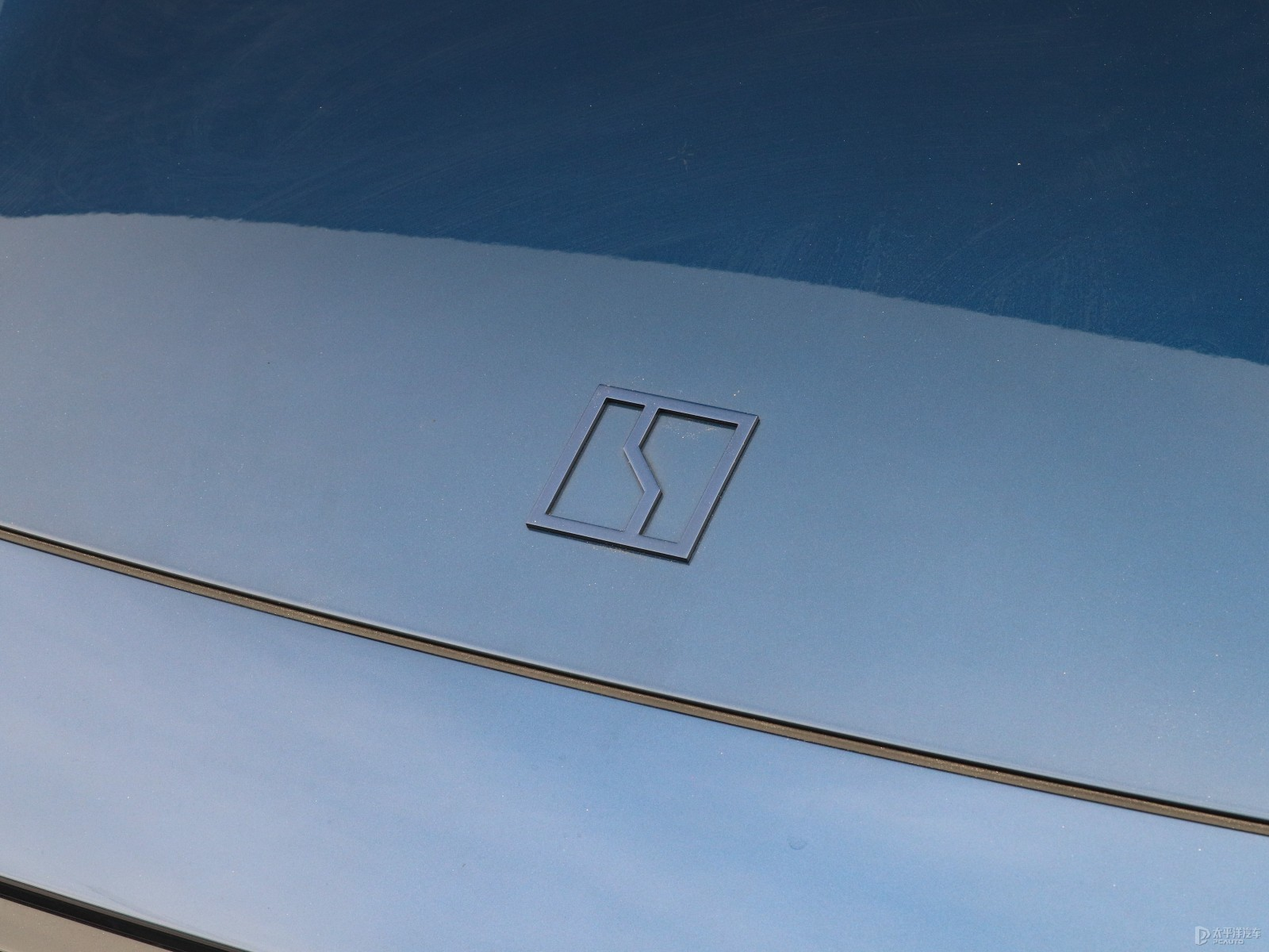ZEEKR: (527, 385, 757, 559)
